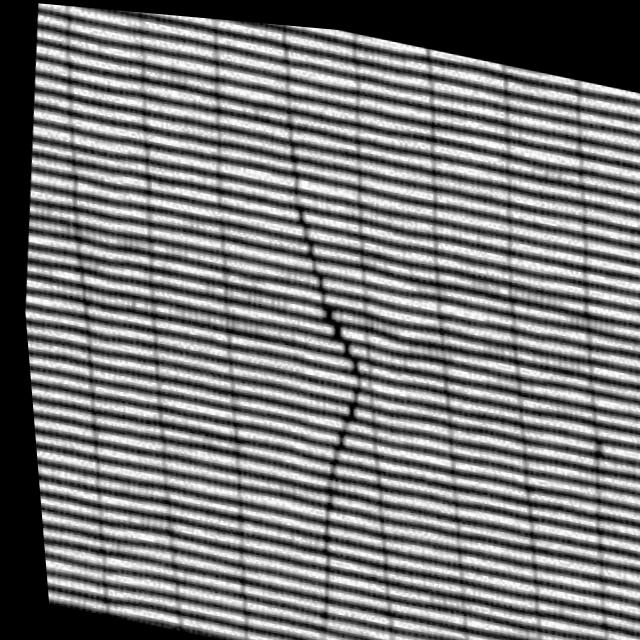Stitch: (215, 130, 441, 555)
